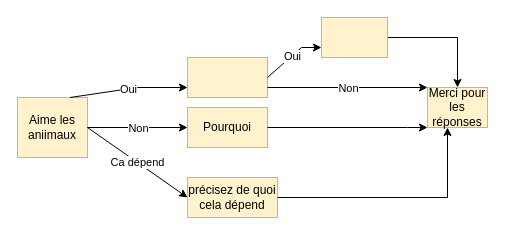
Image size: 505x235. Some labels were removed from this diagram. The centre of each missing label's shape, as x and y in pixels:
"A un animal" belongs at (227,77).
"lesquels" belongs at (354,37).
